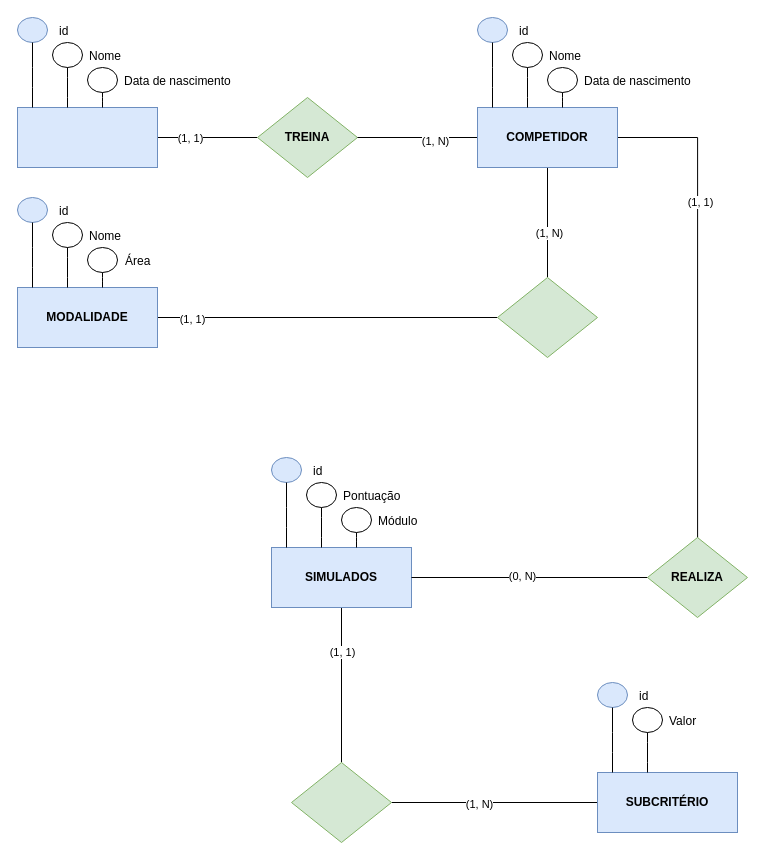
This 765x860 diagram has some shape labels left out. The centre of each missing label's shape, as x and y in pixels:
"PARTICIPA" goes at (547,317).
"POSSUI" goes at (341,802).
"TREINADOR" goes at (87,137).
